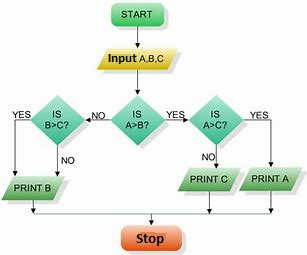arrow: (148, 189, 274, 228), (31, 199, 156, 226), (147, 191, 213, 226), (242, 118, 274, 168), (9, 119, 20, 177), (133, 24, 142, 50), (54, 144, 61, 175), (134, 67, 141, 97), (213, 142, 219, 169), (85, 117, 110, 123), (164, 117, 189, 123)
data: (95, 46, 178, 74), (1, 174, 66, 203), (238, 165, 303, 194), (176, 167, 241, 192)
decision: (29, 94, 88, 148), (188, 93, 245, 147), (111, 96, 166, 147)
process: (119, 224, 185, 253), (110, 1, 166, 29)
text: (106, 52, 165, 65), (201, 109, 232, 132), (43, 107, 72, 131), (123, 109, 151, 131), (249, 172, 293, 184), (135, 232, 167, 247), (188, 174, 230, 185), (12, 183, 53, 193), (120, 8, 153, 20), (249, 110, 271, 121), (10, 109, 32, 119), (166, 108, 185, 119), (200, 152, 218, 163), (60, 155, 76, 165), (90, 111, 108, 119)
